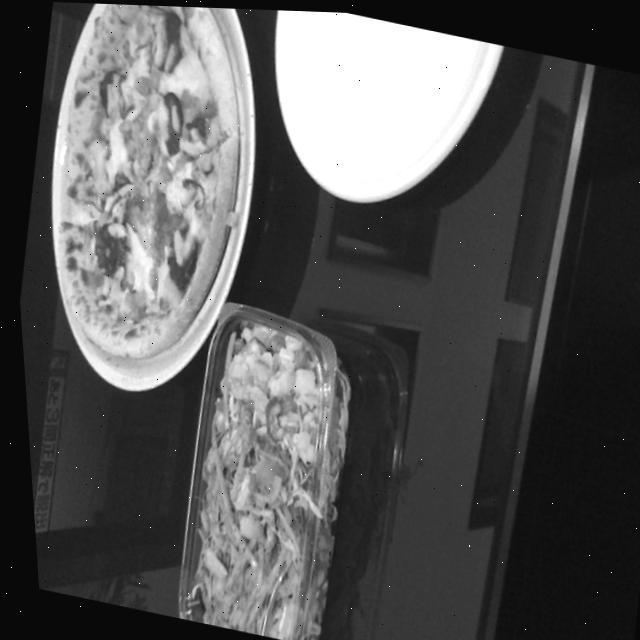汉堡快餐: (0, 0, 296, 414)
蔬菜料理: (141, 301, 359, 640)
